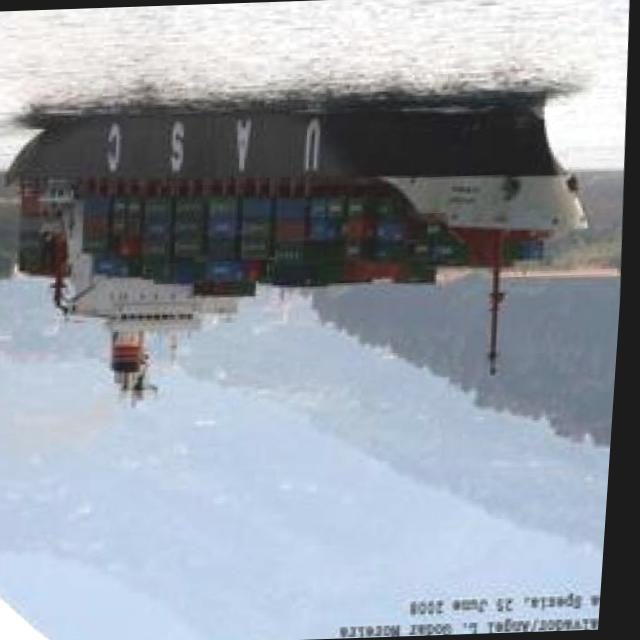ship2: (10, 87, 594, 405)
